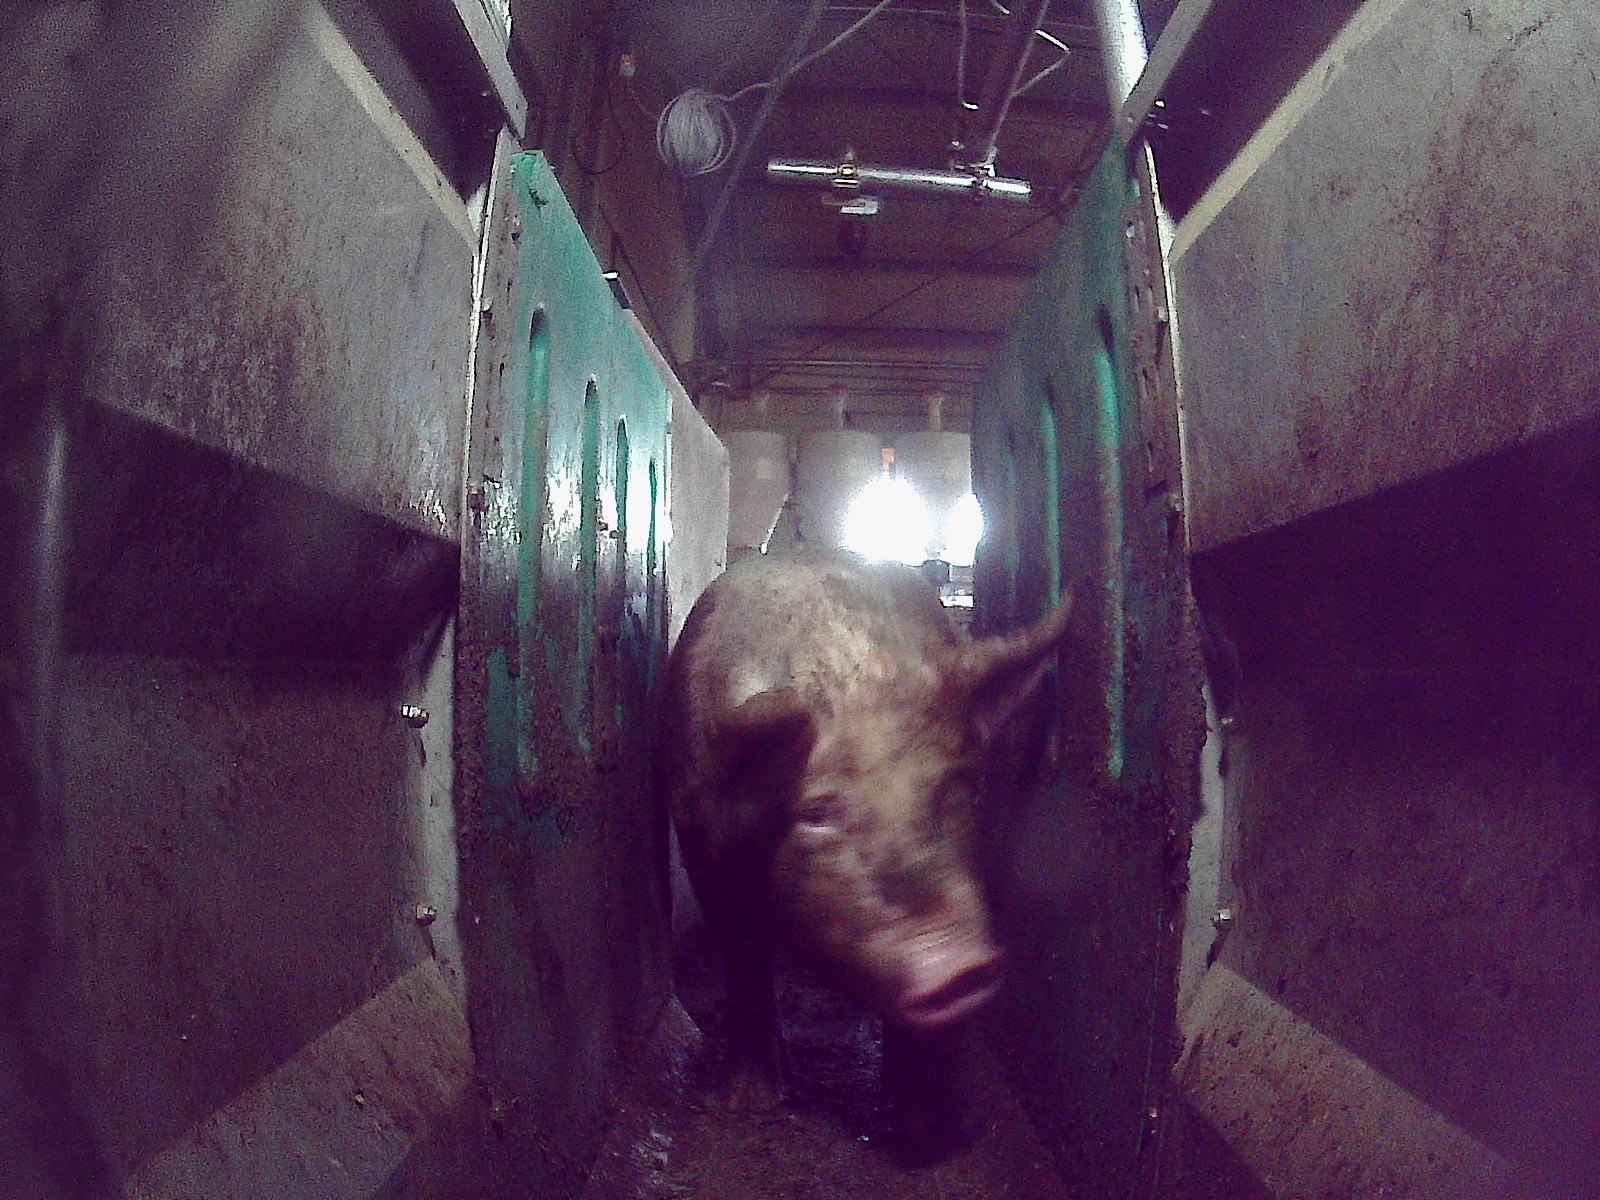Face: (743, 686, 1005, 1029)
